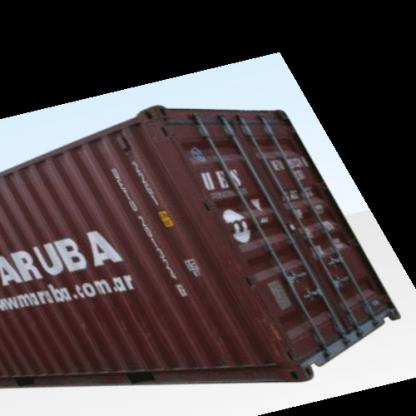Damage: (52, 296, 158, 339), (242, 281, 290, 354)
